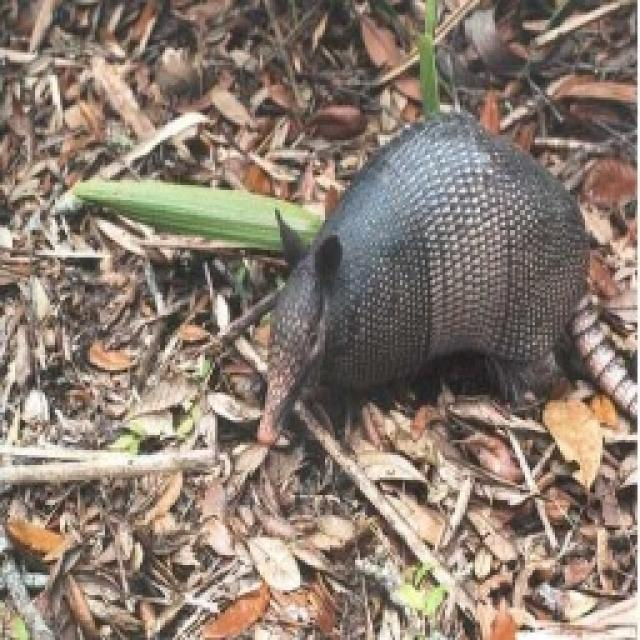pig: (254, 108, 638, 448)
